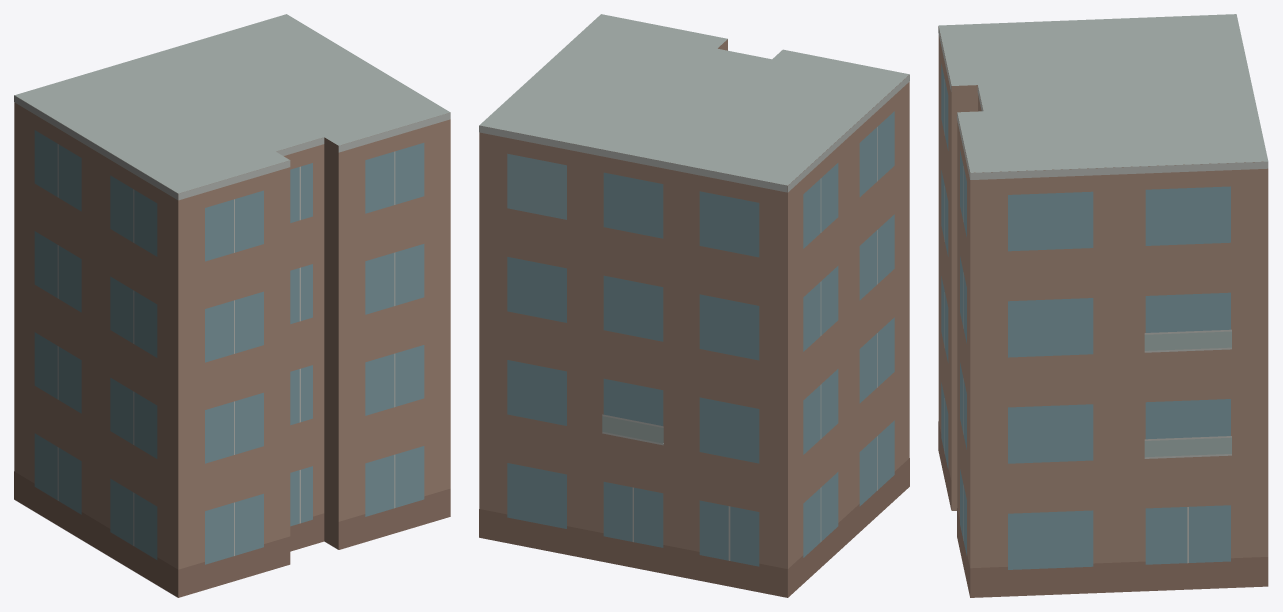
File: survey-upis-32939028.glb
3 renders of one model, left to right at view 1: azimuth 30°, elevation 25°; view 2: azimuth 150°, elevation 25°; view 3: azimuth 270°, elevation 25°, orthographic. The views are drawn at different scales.
Visible parts, largest first — view 1: survey-upis-32939028.tmp; view 2: survey-upis-32939028.tmp; view 3: survey-upis-32939028.tmp.
Part boxes in pixels (bbox=[...]): survey-upis-32939028.tmp: bbox=[14, 14, 450, 597]; survey-upis-32939028.tmp: bbox=[479, 14, 909, 597]; survey-upis-32939028.tmp: bbox=[938, 14, 1268, 597].
Bounding box in the file's own units: 11.48 × 14.3 × 10.07.
